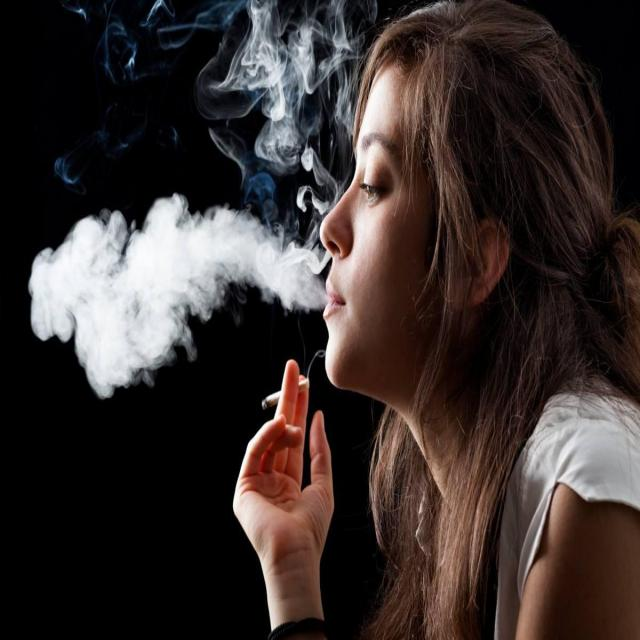smoke: (252, 370, 312, 424)
